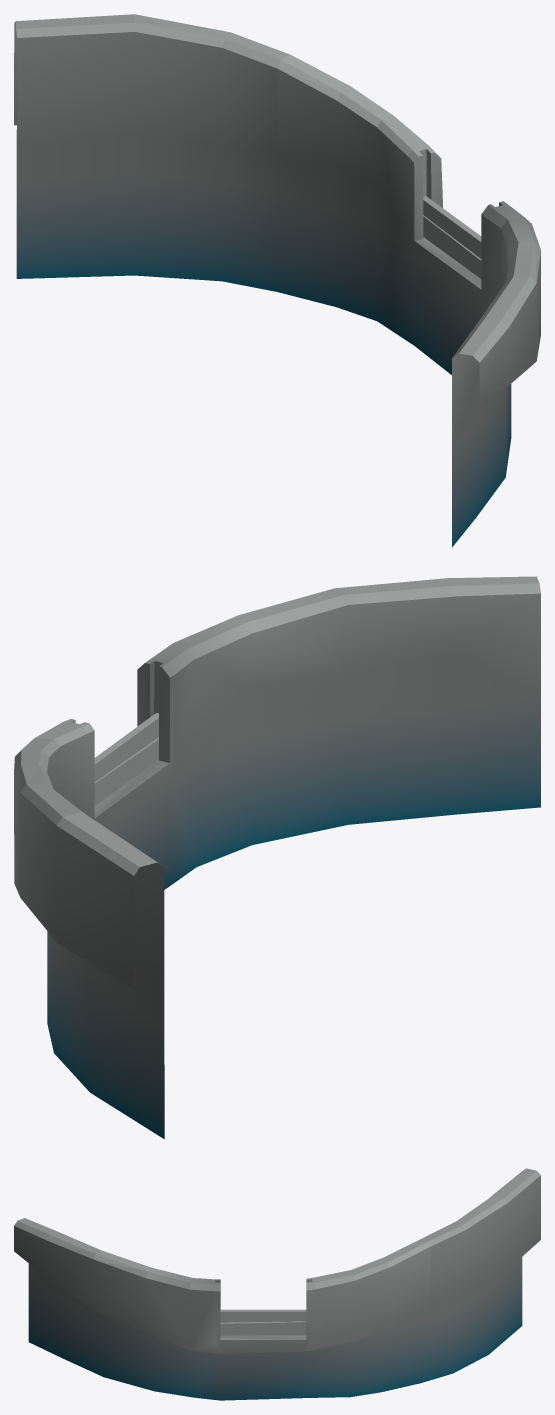
3 renders of one model, top to bottom at view 1: azimuth 30°, elevation 25°; view 2: azimuth 150°, elevation 25°; view 3: azimuth 270°, elevation 25°, orthographic. The views are drawn at different scales.
Visible parts, largest first — view 1: G:\FFXIV-MapTools\exports\s1f3\bg\ffxiv\sea_s1\fld\s1f3\bgpa (×2); view 2: G:\FFXIV-MapTools\exports\s1f3\bg\ffxiv\sea_s1\fld\s1f3\bgpa (×2); view 3: G:\FFXIV-MapTools\exports\s1f3\bg\ffxiv\sea_s1\fld\s1f3\bgpa (×2).
Part boxes in pixels (x1,y1,x2,y2): G:\FFXIV-MapTools\exports\s1f3\bg\ffxiv\sea_s1\fld\s1f3\bgpa (×2): [14, 14, 540, 547]; G:\FFXIV-MapTools\exports\s1f3\bg\ffxiv\sea_s1\fld\s1f3\bgpa (×2): [14, 576, 540, 1139]; G:\FFXIV-MapTools\exports\s1f3\bg\ffxiv\sea_s1\fld\s1f3\bgpa (×2): [14, 1168, 540, 1400].
Bounding box in the file's own units: 10.96 × 10.23 × 30.
